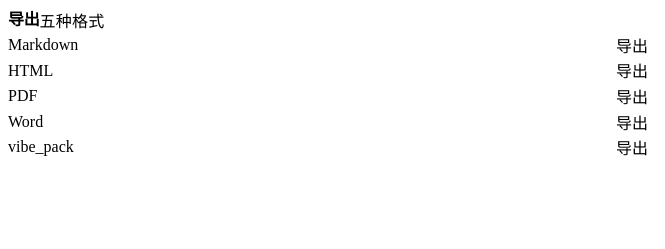
Test: 导出屏 › 被阻断时列出每一个挡路的块，每条都能跳回报告里那一处
The image size is (665, 249).
Click the button "导出" in the row of "PDF" at (632, 96), box [616,84,648,108]
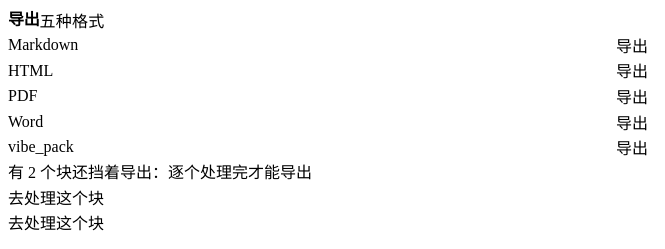
expect the element showing "有 2 个块还挡着导出：逐个处理完才能导出 去处理这个块 去处理这个块" is shown: met, box [8,164,312,232]
